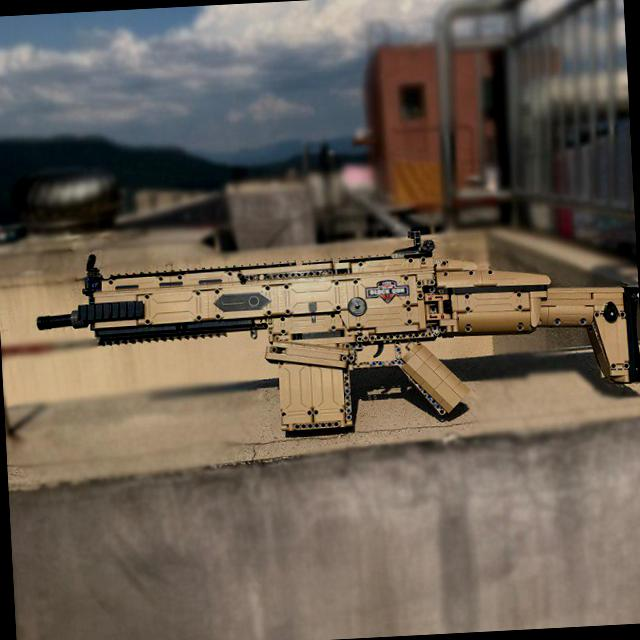long weapon: (16, 221, 640, 438)
